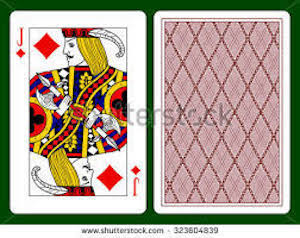JackOfDiamonds: (3, 9, 150, 218)
